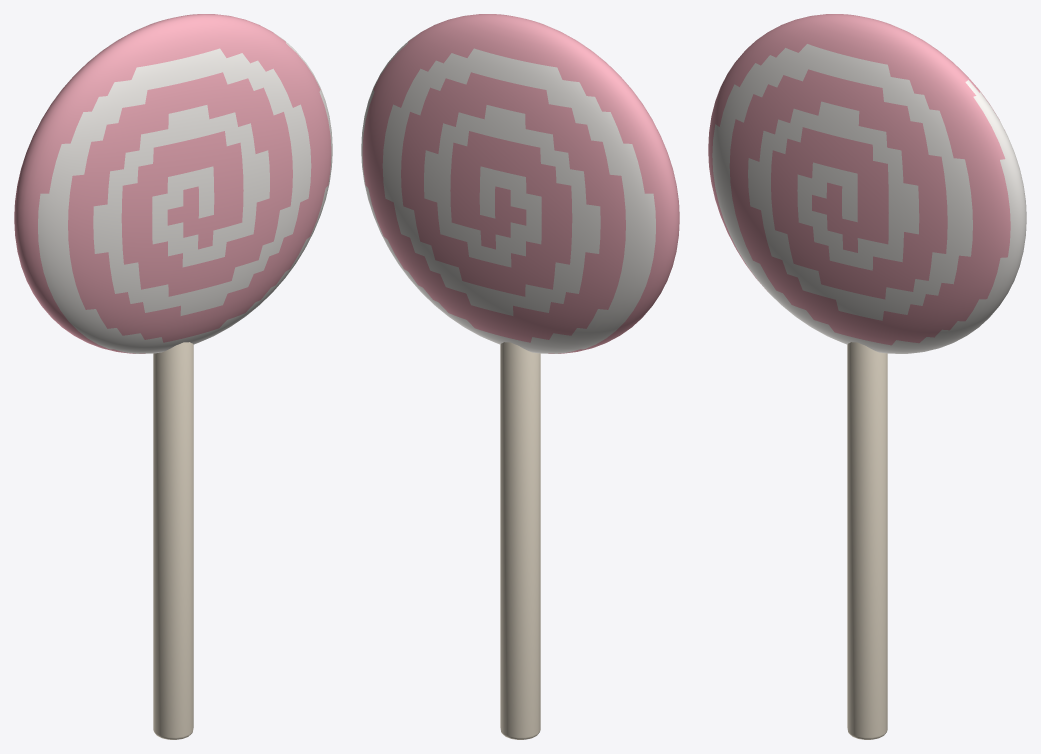
Rendered from lollipop.glb.
The picture shows the model from 3 angles, left to right: view 1: azimuth 30°, elevation 25°; view 2: azimuth 150°, elevation 25°; view 3: azimuth 330°, elevation 25°; orthographic projection.
Visible parts, largest first — view 1: lollipop; view 2: lollipop; view 3: lollipop.
Part boxes in pixels (x1,y1,x2,y2): lollipop: [14, 14, 332, 739]; lollipop: [361, 14, 679, 739]; lollipop: [708, 14, 1026, 739].
Bounding box in the file's own units: 0.9 × 1.95 × 0.252.
